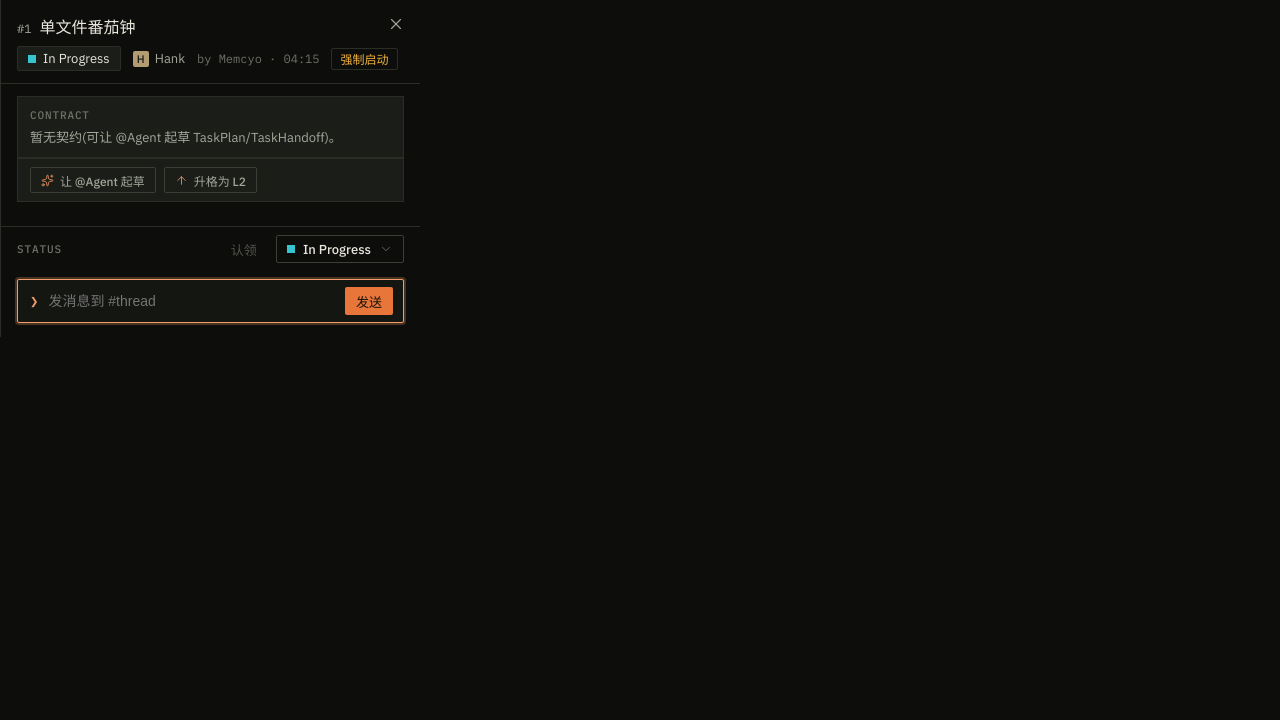
it: ThreadPanel 让 @Agent 起草(补契约 Agent 路) › DAEMON_OFFLINE(503)→ 专属离线文案
Click the button "让 @Agent 起草" at {"x": 93, "y": 180}, box [30,167,156,193]
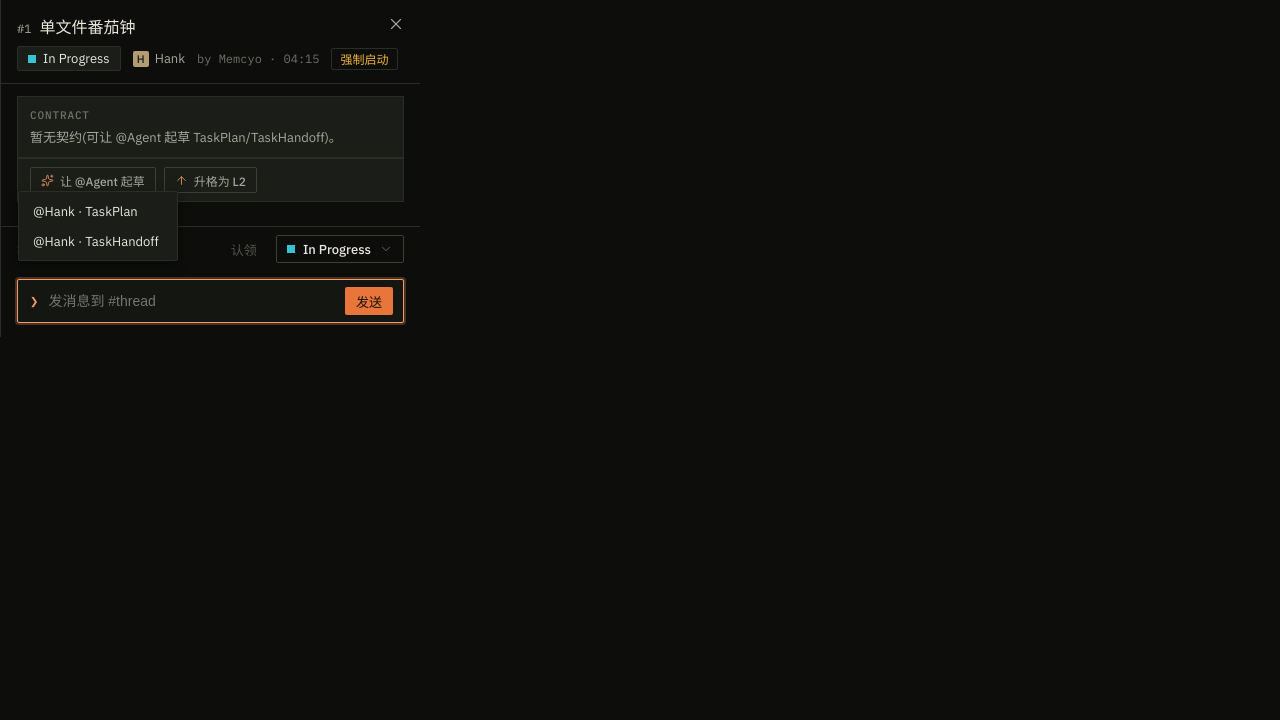
Click the text "@Hank · TaskHandoff" at {"x": 96, "y": 241}, box [33,232,159,250]
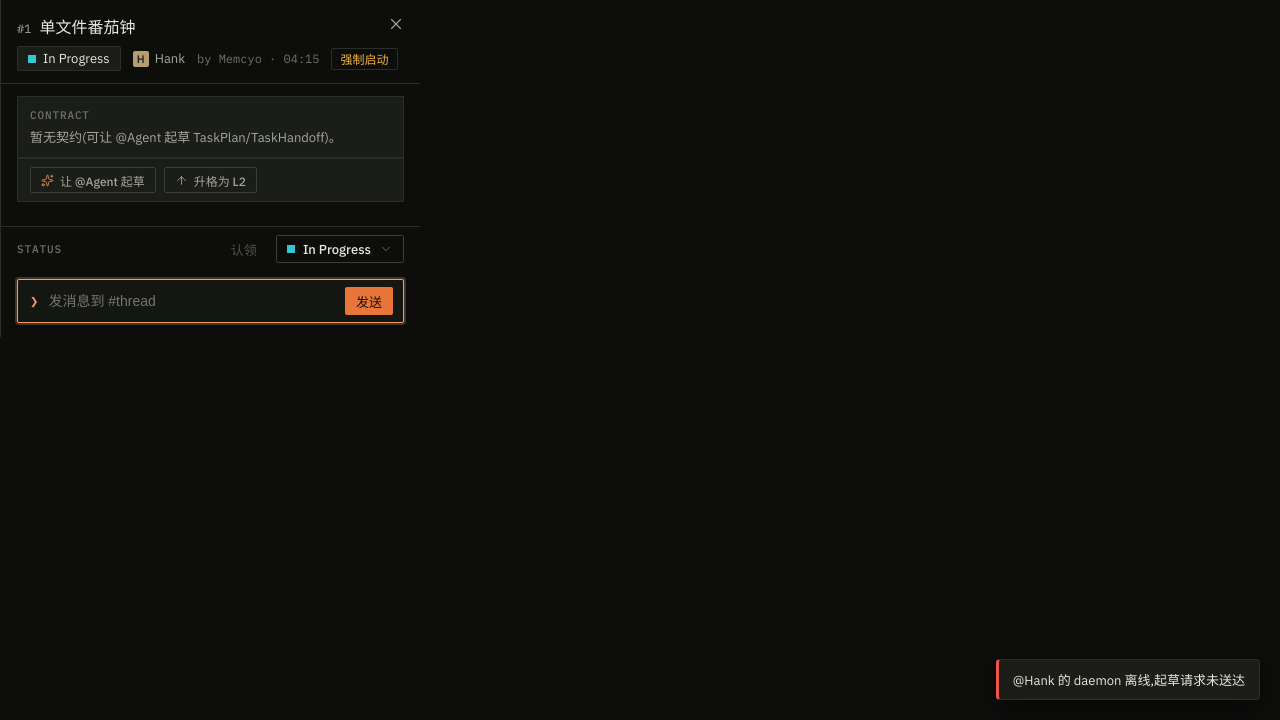
Expected: the text "@Hank 的 daemon 离线,起草请求未送达" is shown, [996,659,1260,700]
